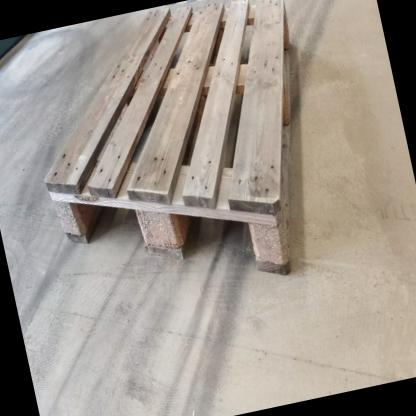BoxFace: (39, 0, 295, 280)
